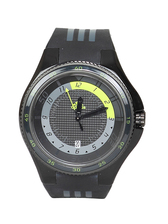watch: (17, 21, 150, 206)
